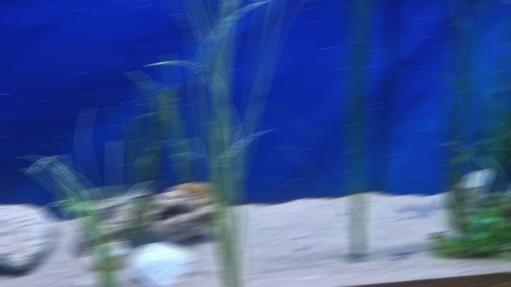Fish: (95, 183, 161, 209)
